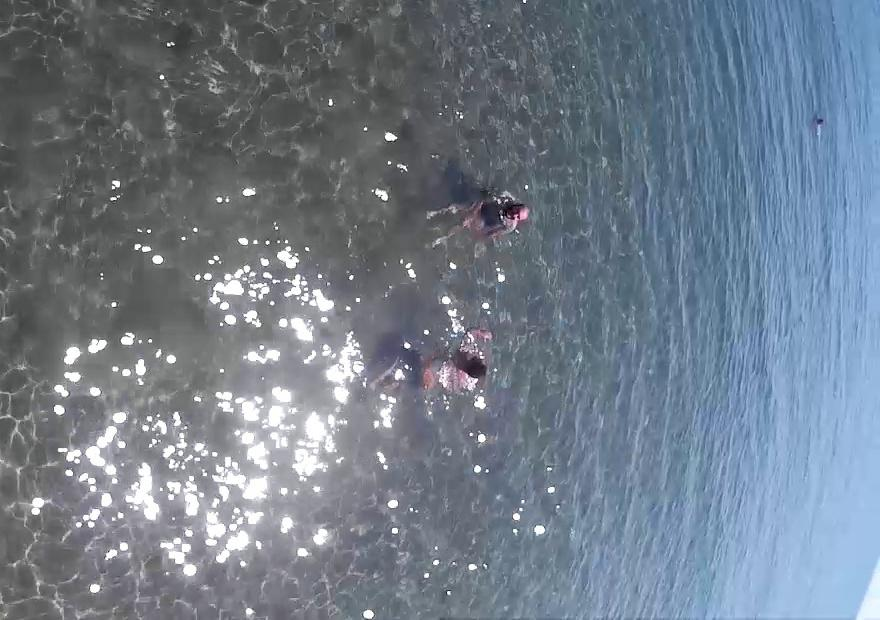human: (360, 320, 497, 414), (412, 181, 540, 267)
